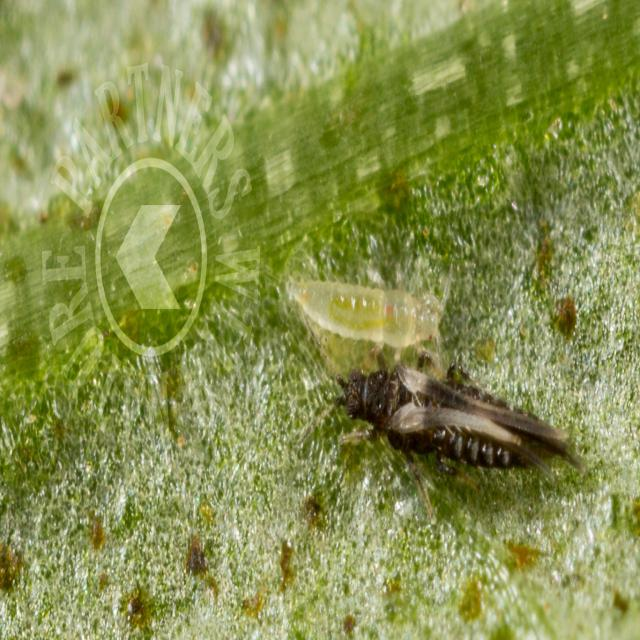Thrip-Adult-: (323, 336, 593, 508)
Thrip-Larva-: (274, 243, 456, 361)
